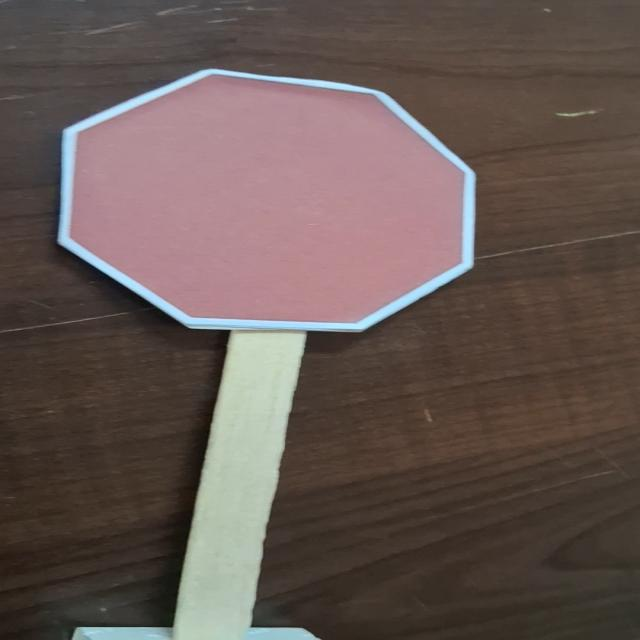Stop: (51, 59, 480, 340)
